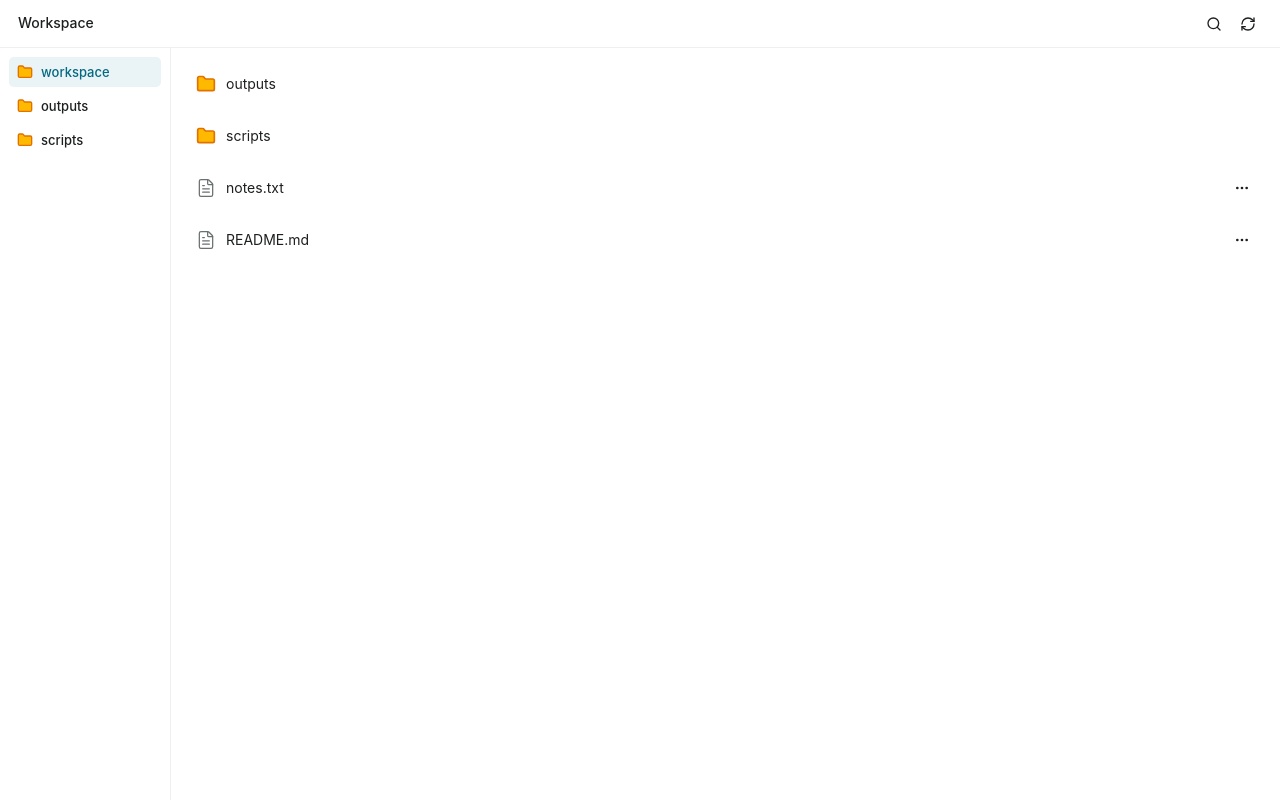
Test: opens a workspace folder from the real sandbox response
What coordinates should you click on to do the following:
click the 1st button "outputs"
I would click on:
 (251, 84)
Its box is [183,60,1268,108].
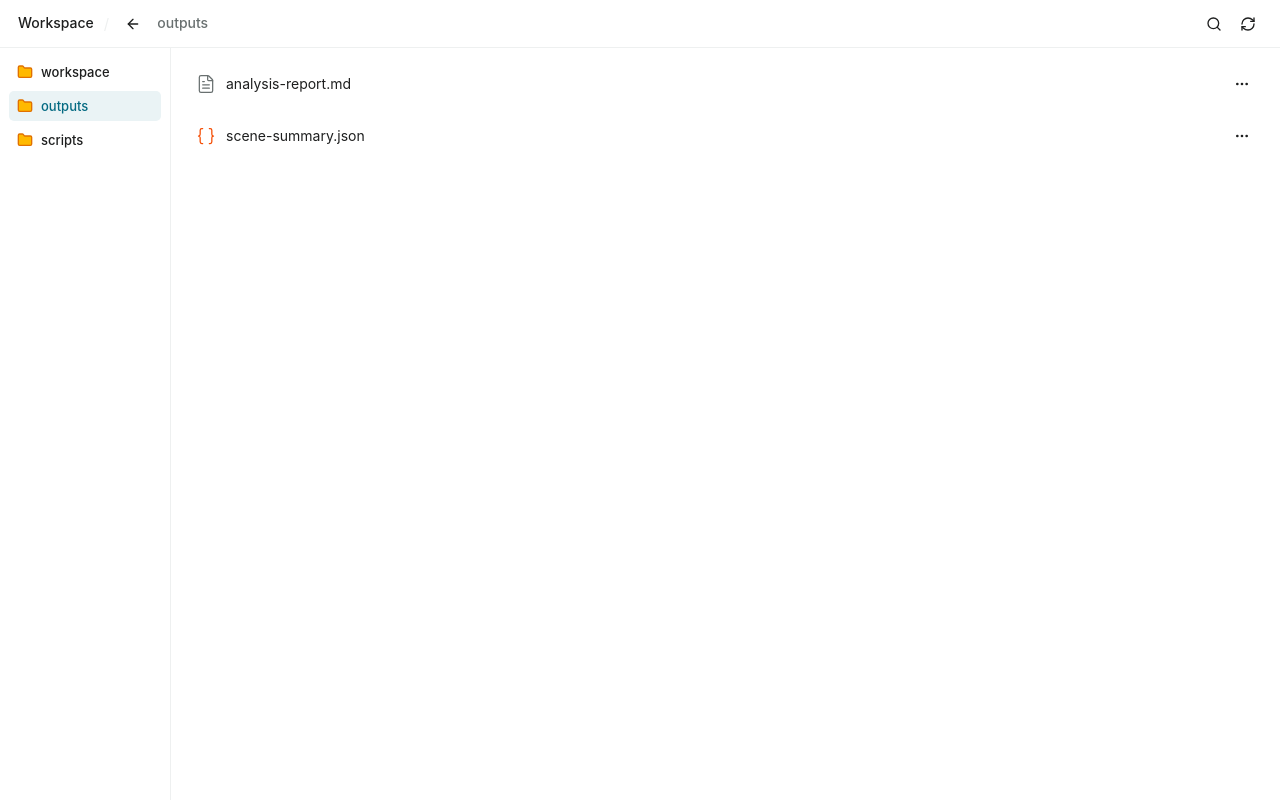
expect the text "analysis-report.md" is shown: met, box [226,74,351,94]
expect the text "scene-summary.json" is shown: met, box [226,126,365,146]
